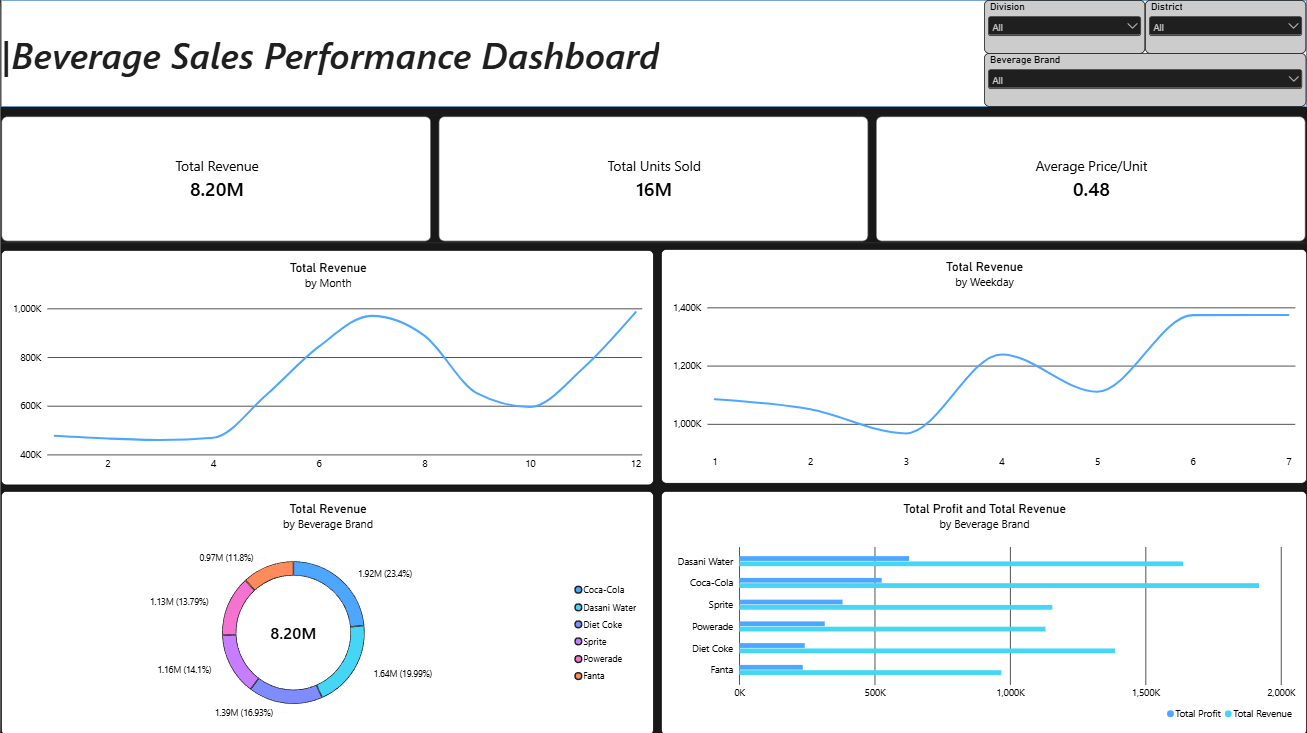

This screenshot's page, from the dashboard's own definition file:
{"tool":"powerbi","page":{"name":"Page 1","canvas":[1920,1080],"ordinal":0},"visuals":[{"type":"cardVisual","fields":{"Data":["Analysis.Total Revenue","Analysis.Total Units Sold","Analysis.Average Price/Unit"]},"box":[0,170.4,1920,185.2],"z":0},{"type":"shape","box":[0,0,1920,157],"z":1000},{"type":"slicer","fields":{"Values":["Data.Division"]},"box":[1445.9,0,237,78.5],"z":2000},{"type":"lineChart","fields":{"Category":["Dates.Weekday"],"Y":["Analysis.Total Revenue"]},"box":[970.4,365.9,949.6,345.2],"z":3000},{"type":"donutChart","fields":{"Category":["Data.Beverage Brand"],"Y":["Analysis.Total Revenue"]},"box":[0,721.5,960,358.5],"z":4000},{"type":"clusteredBarChart","fields":{"Category":["Data.Beverage Brand"],"Y":["Analysis.Total Profit","Analysis.Total Revenue"]},"box":[970.4,721.5,949.6,358.5],"z":5000},{"type":"lineChart","fields":{"Category":["Dates.Month"],"Y":["Analysis.Total Revenue"]},"box":[0,367.1,960.3,345.8],"z":5001},{"type":"slicer","fields":{"Values":["Data.District"]},"box":[1683,0,237,78.5],"z":5002},{"type":"slicer","fields":{"Values":["Data.Beverage Brand"]},"box":[1445.9,78.5,474.1,78.5],"z":5004}]}

Visuals, with their boxes in screenshot pixels (x1, y1, x2, y2), scaled from the page's 1920x1080 canvas onto the 1307x733 screenshot:
cardVisual - Analysis.Total Revenue x Analysis.Total Units Sold: box=[0, 116, 1306, 241]
shape: box=[0, 0, 1306, 107]
slicer - Data.Division: box=[984, 0, 1146, 53]
lineChart - Dates.Weekday x Analysis.Total Revenue: box=[661, 248, 1306, 483]
donutChart - Data.Beverage Brand x Analysis.Total Revenue: box=[0, 490, 654, 732]
clusteredBarChart - Data.Beverage Brand x Analysis.Total Profit: box=[661, 490, 1306, 732]
lineChart - Dates.Month x Analysis.Total Revenue: box=[0, 249, 654, 484]
slicer - Data.District: box=[1146, 0, 1306, 53]
slicer - Data.Beverage Brand: box=[984, 53, 1306, 107]
